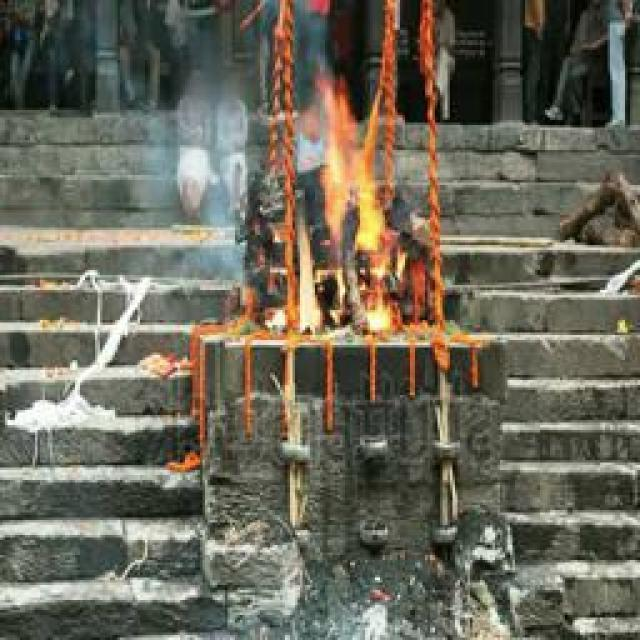Fire: (279, 76, 386, 338)
